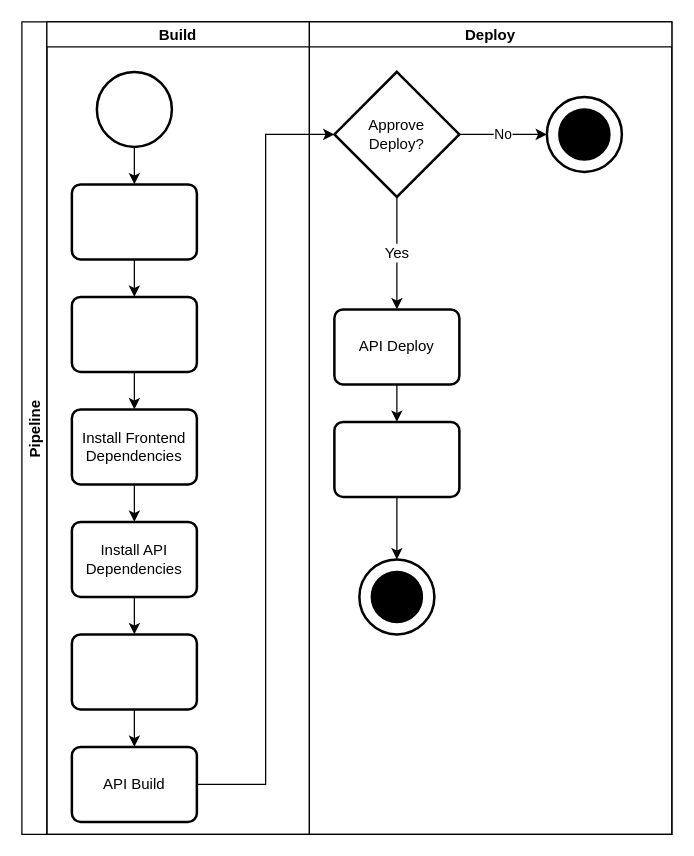
Image size: 694x856. Some labels were removed from this diagram. The centre of each missing label's shape, as x and y in pixels:
Checkout Code: [134,333]
Frontend Build: [134,671]
Frontend Deploy: [396,459]
Install node: [134,221]
